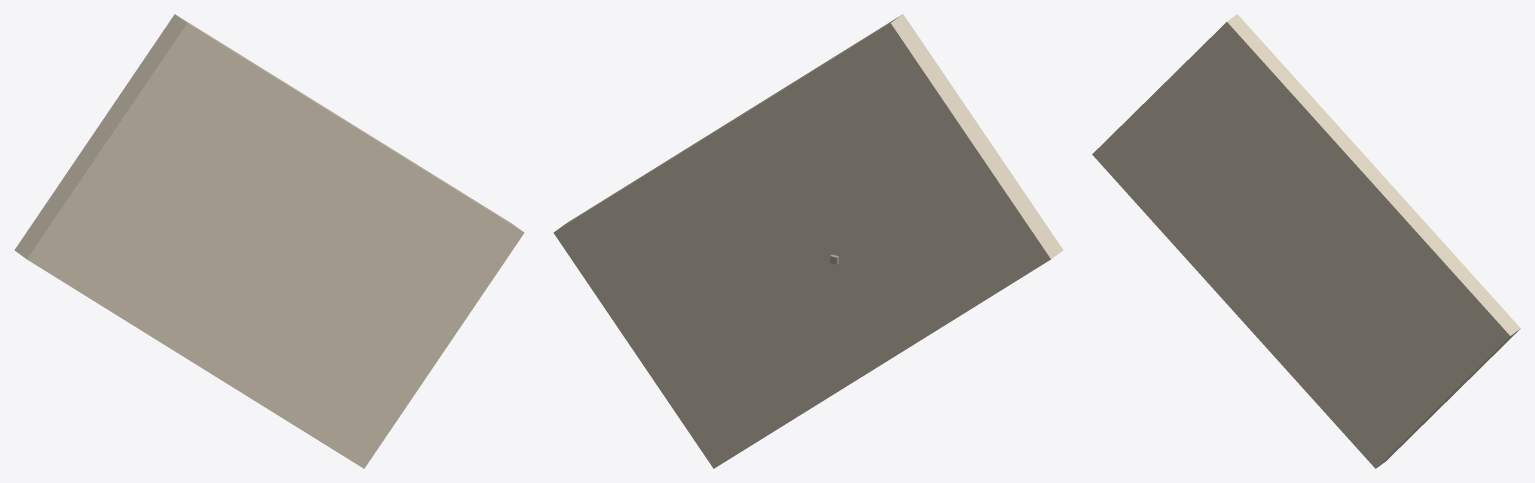
Rendered from historic-palestine-15_33_3570_3270.glb.
The picture shows the model from 3 angles, left to right: view 1: azimuth 30°, elevation 25°; view 2: azimuth 150°, elevation 25°; view 3: azimuth 330°, elevation 25°; orthographic projection. The views are drawn at different scales.
Visible parts, largest first — view 1: Building_; view 2: Building_; view 3: Building_.
Part boxes in pixels (<box>): Building_: <box>14,14,524,468</box>; Building_: <box>553,14,1063,468</box>; Building_: <box>1092,14,1520,468</box>.
Size of the model in its own units: 172 by 162 by 8.7.
